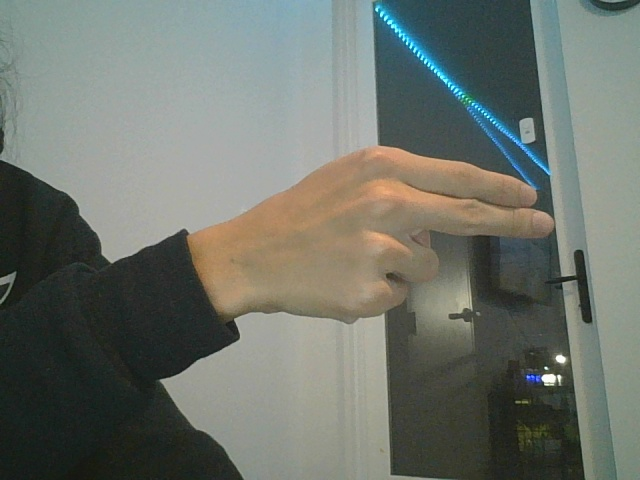h: (187, 141, 555, 326)
